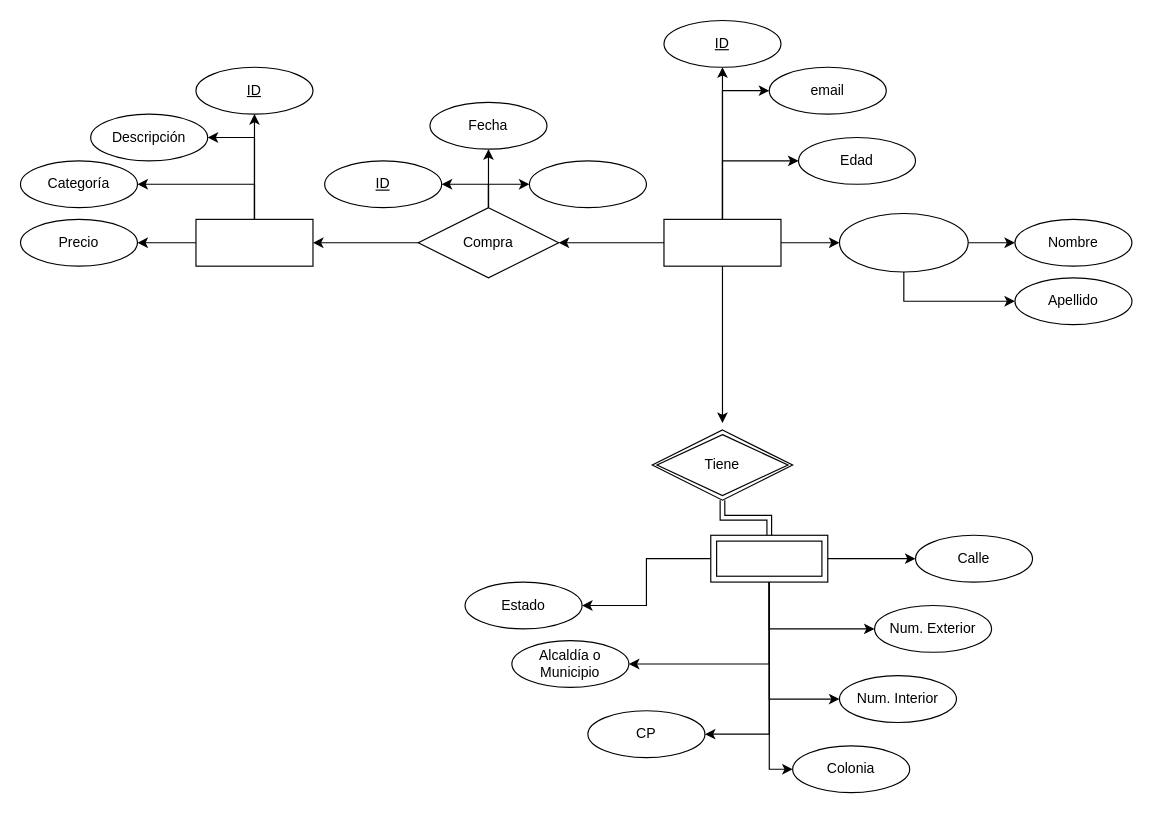
Some shapes in this 1152 by 813 pixel diagram are drawn without their labels. Each missing label, with the centre of its shape:
Cliente: the point at 722,242
Dirección: the point at 769,558
Fecha de entrega: the point at 587,184
Nombre Completo: the point at 903,242
Producto: the point at 254,242
